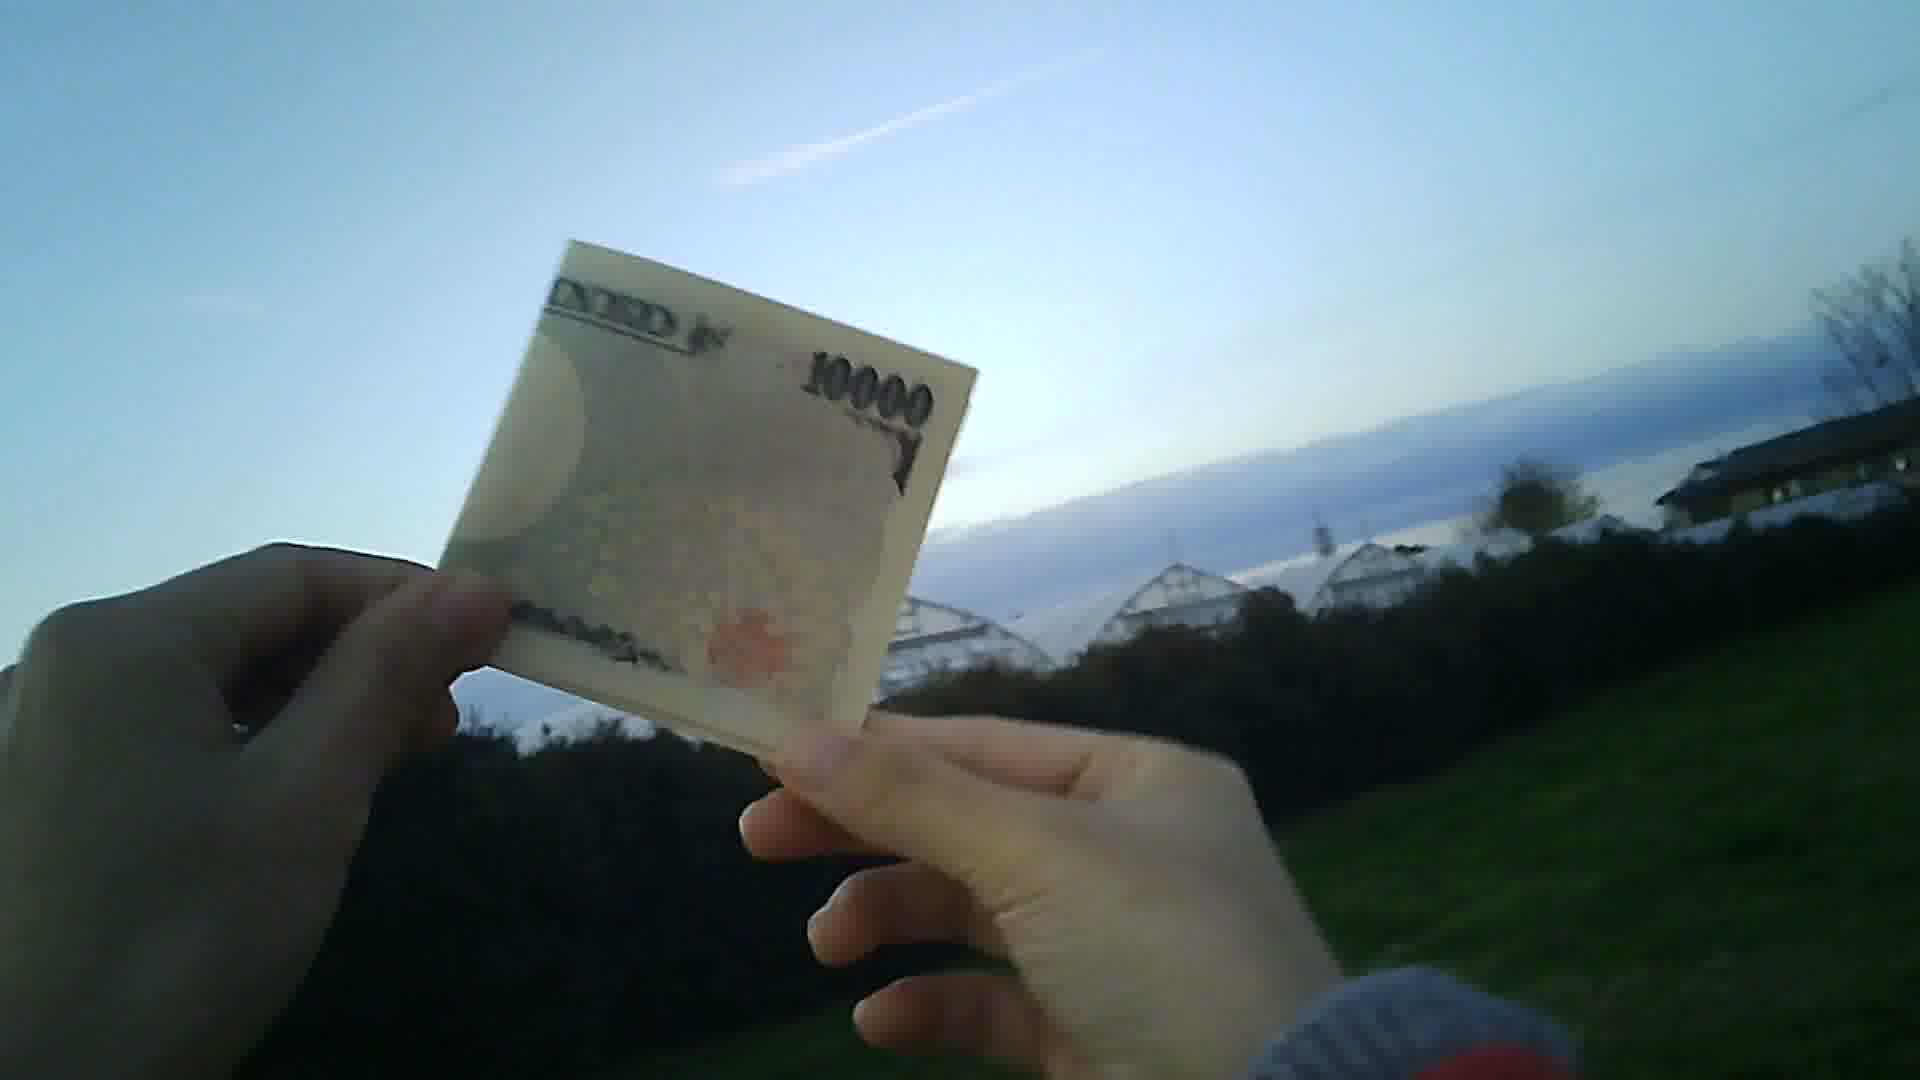10,000 Yen: (396, 210, 988, 736)
